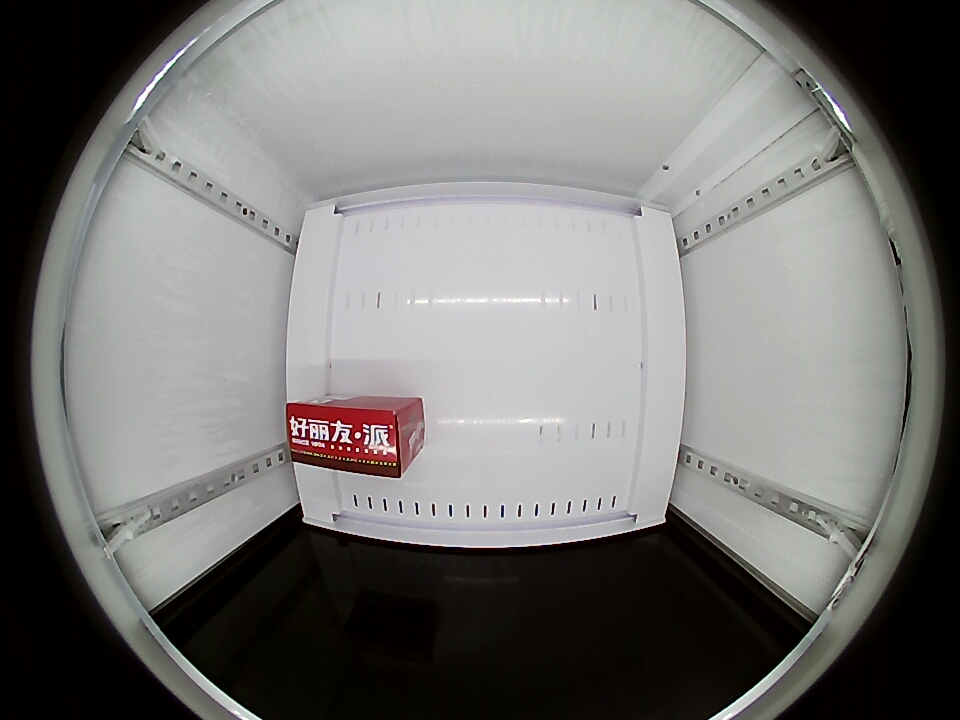haoliyou: (286, 397, 417, 478)
